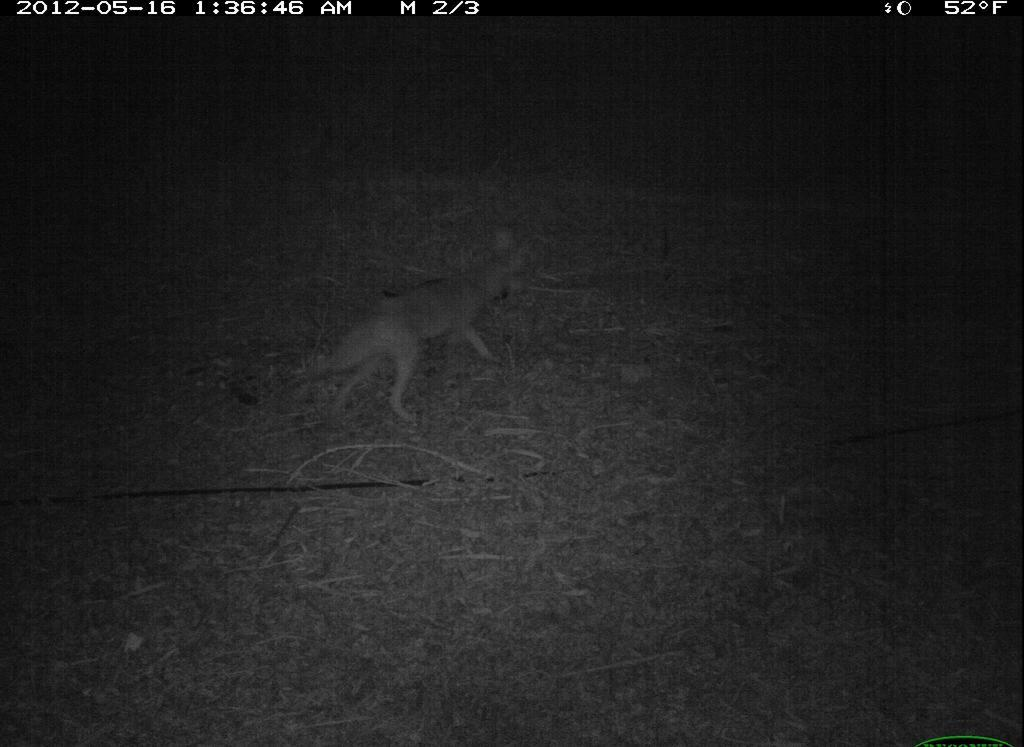coyote: (287, 218, 548, 431)
